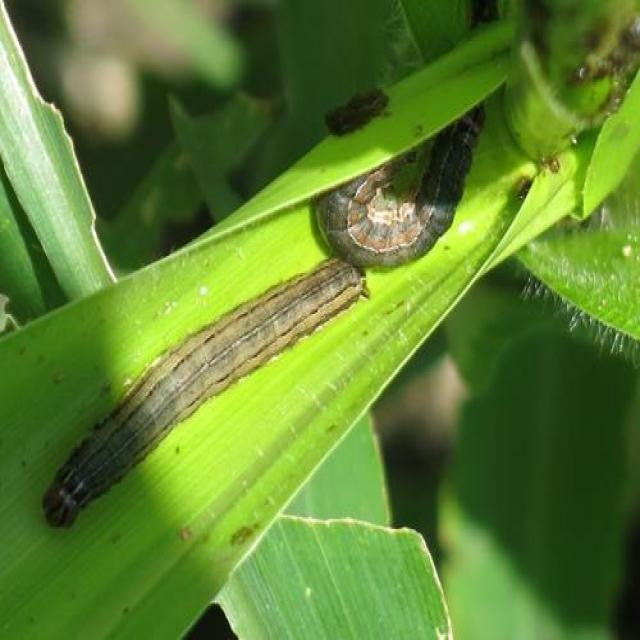army worm: (44, 257, 374, 530), (311, 102, 498, 258), (322, 83, 399, 141)
